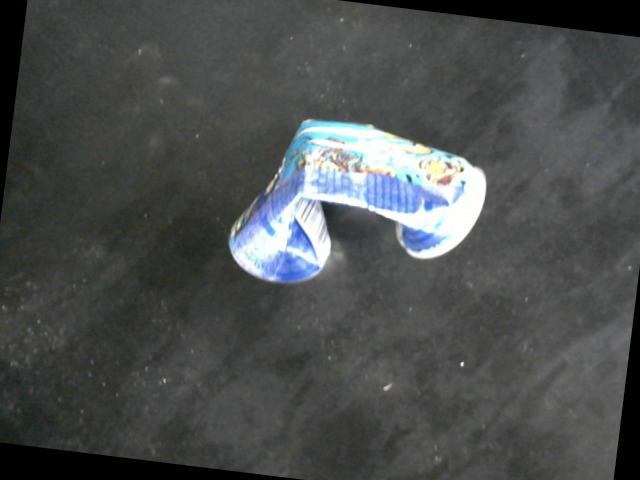can: (219, 108, 500, 290)
